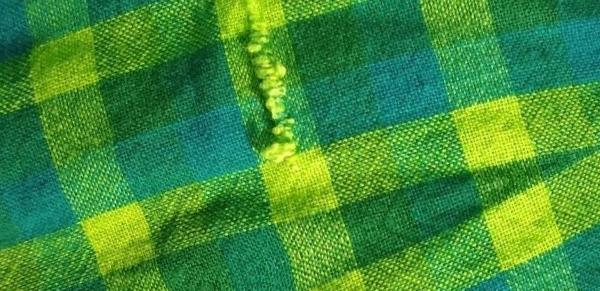knot: (241, 11, 297, 166)
